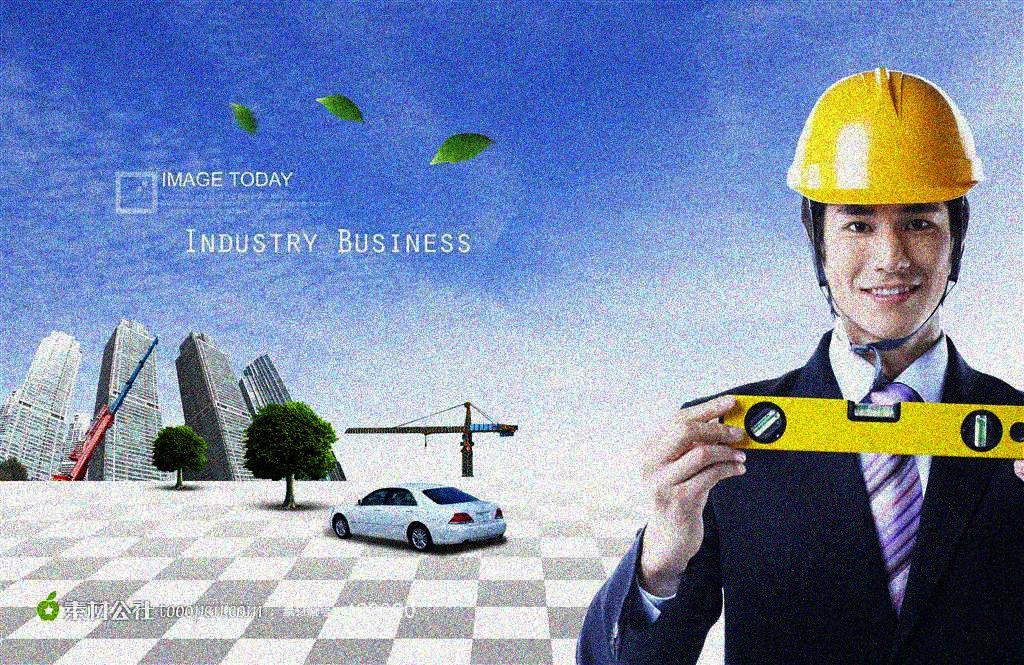helmet: (783, 64, 991, 342)
